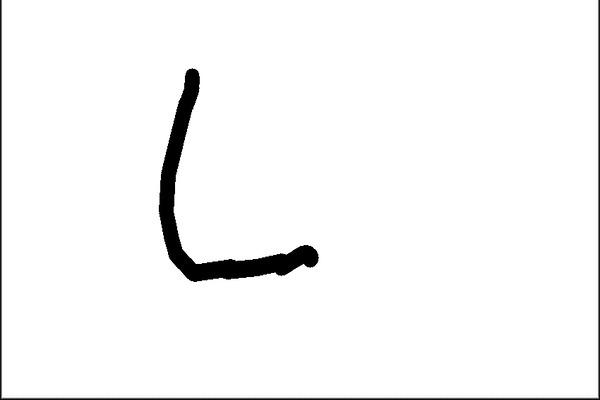L: (152, 60, 323, 287)
